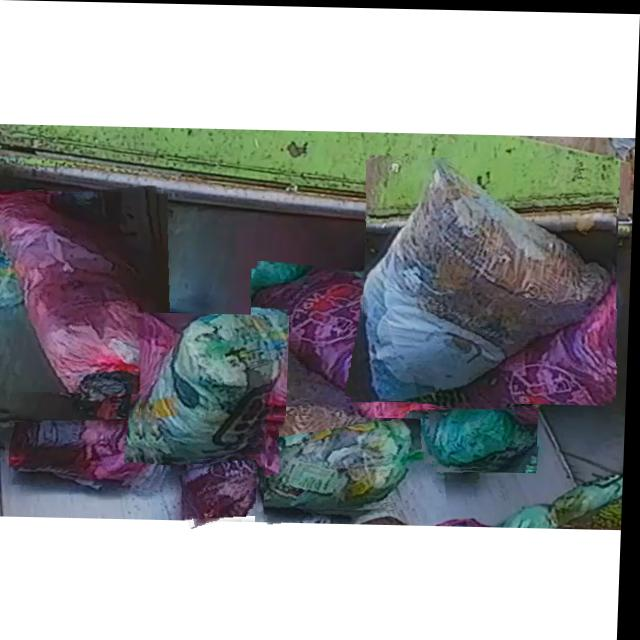general_trashbag: (144, 314, 292, 460), (268, 416, 444, 511), (435, 407, 541, 466)
other_trashbag: (366, 159, 615, 399), (254, 267, 499, 433), (0, 197, 171, 416), (13, 392, 168, 485), (187, 459, 259, 527)
